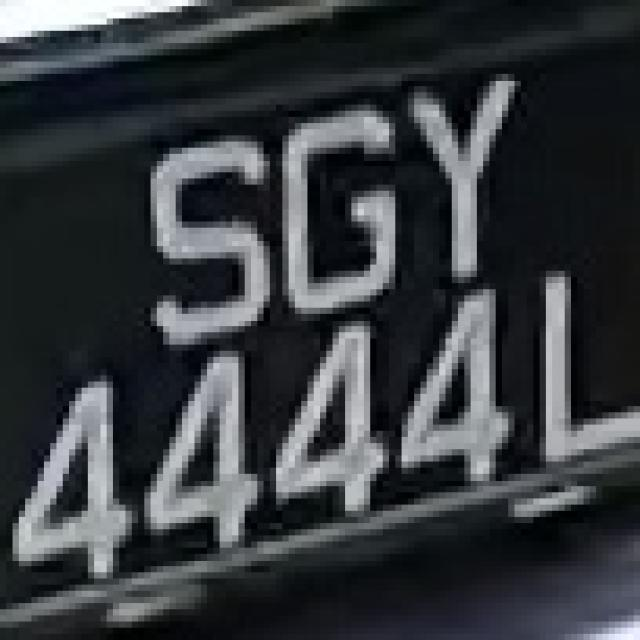4: (383, 283, 521, 542), (125, 338, 270, 584), (238, 327, 396, 536), (0, 356, 125, 609)
G: (270, 92, 420, 320)
L: (508, 252, 628, 474)
S: (132, 117, 270, 345)
Y: (389, 62, 533, 289)
